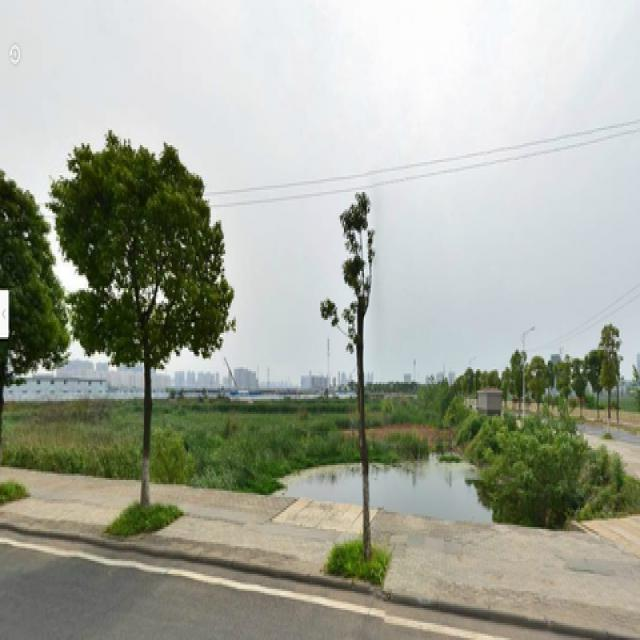cinn: (89, 145, 208, 514), (332, 211, 400, 568)
